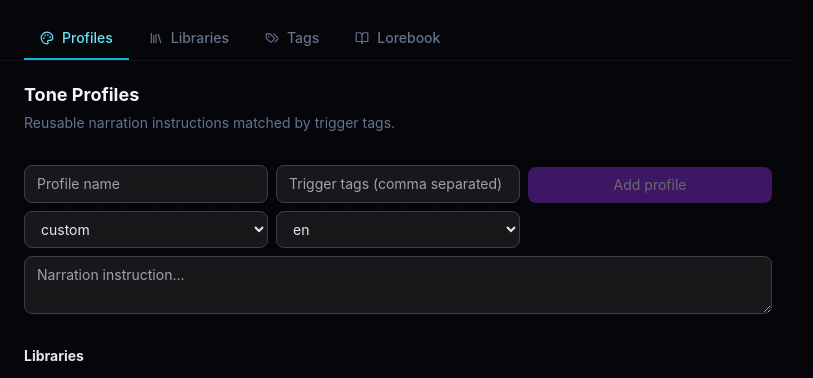
/forge/style — page skeleton (F3-4.0) › renders the real Libraries panel (F3-4.2)
What coordinates should you click on to do the following:
click the button "Libraries"
I would click on:
 (189, 39)
Its box is [133,18,245,60].
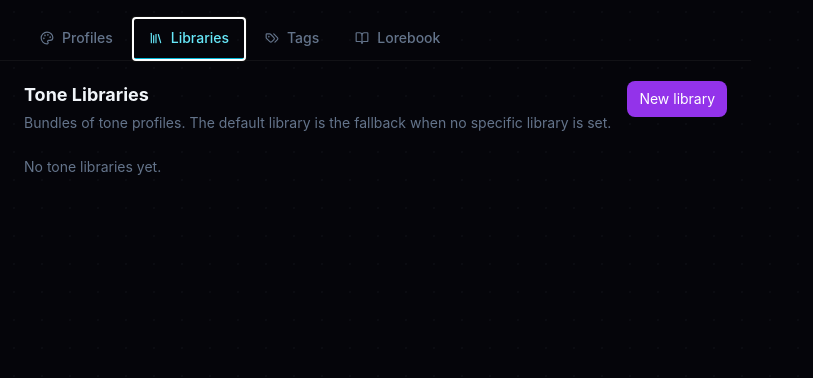
Now the heading "Tone Libraries" is shown, box [24,84,149,105]
Now the button "New library" is shown, box [627,81,727,117]
